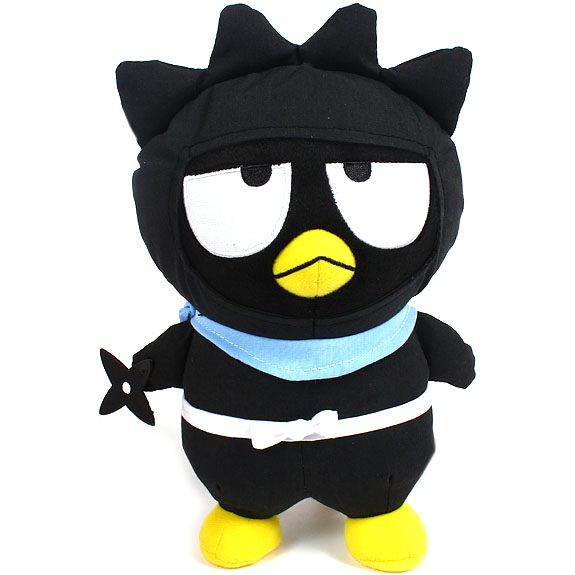batsumaru: (101, 4, 476, 575)
